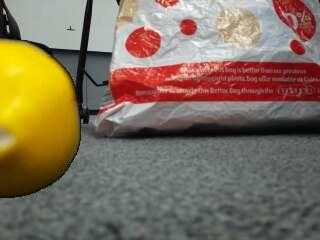lemon: (2, 37, 82, 202)
